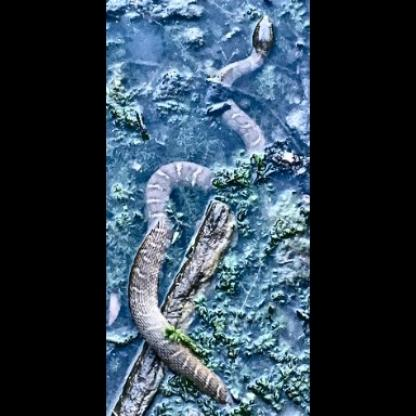Snake: (126, 37, 285, 381), (126, 137, 250, 354)
